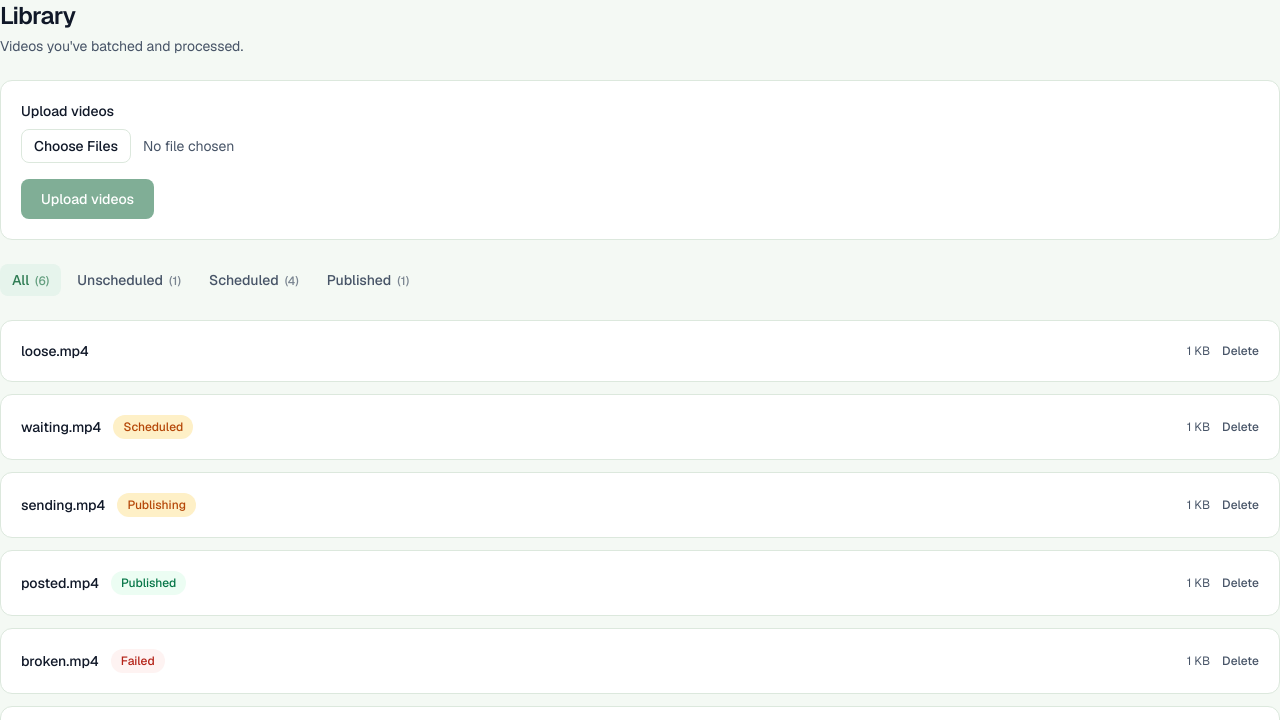
Scenario: LibraryPage › Library filter tabs › classifies by publish_status, not assigned_slot_id — a published video still holds its slot
The image size is (1280, 720).
Check: the text "loose.mp4" is shown, box [21,341,89,361]
Click the tab "Scheduled(4)".
click(254, 280)  # box [197,264,311,296]
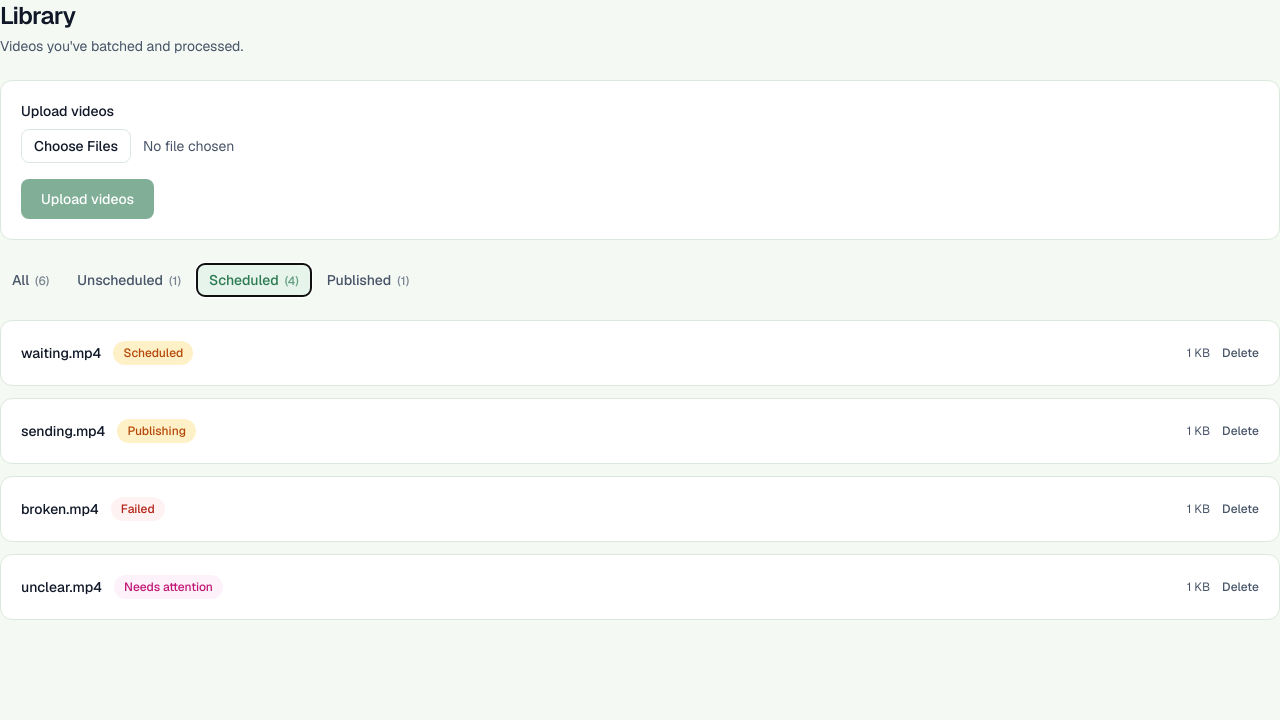
Check: the text "posted.mp4" is gone
